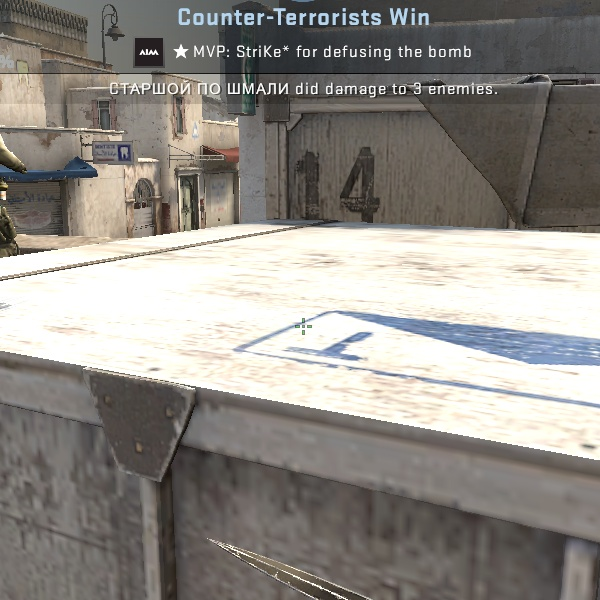ct_body: (1, 185, 22, 256)
